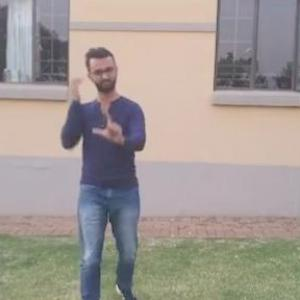land_hand: (89, 102, 127, 149)
